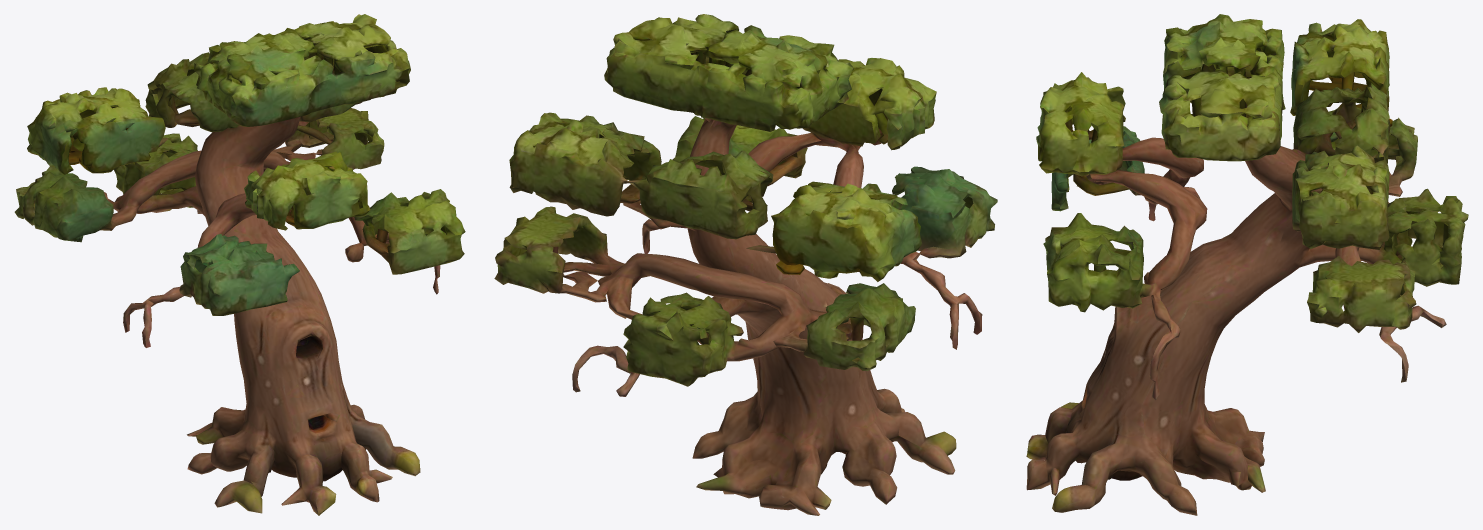
File: hg-oak.glb
3 renders of one model, left to right at view 1: azimuth 30°, elevation 25°; view 2: azimuth 150°, elevation 25°; view 3: azimuth 270°, elevation 25°, orthographic. The views are drawn at different scales.
Visible parts, largest first — view 1: hg-oak; view 2: hg-oak; view 3: hg-oak.
Part boxes in pixels (left/top/right/bottom): hg-oak: left=14, top=14, right=465, bottom=515; hg-oak: left=494, top=14, right=997, bottom=515; hg-oak: left=1026, top=14, right=1468, bottom=515.
Bounding box in the file's own units: 10.44 × 12 × 10.69.
1 material, 1 textured.
